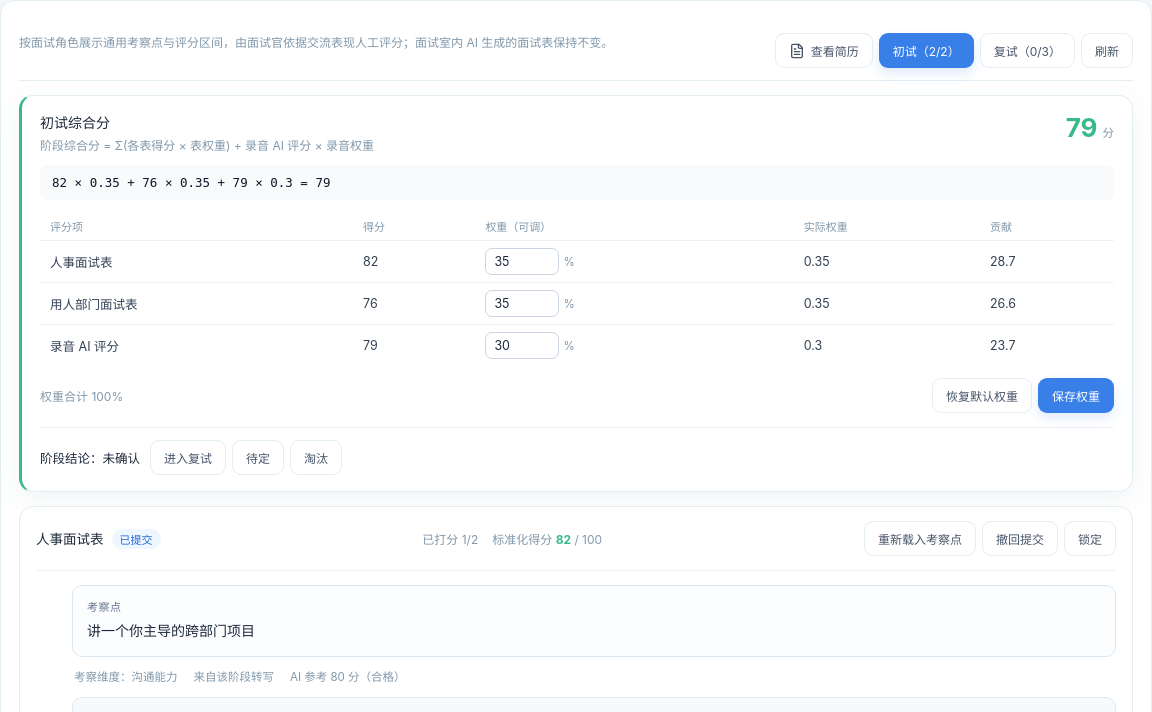
Test: QuestionSheetPanel › 权重合计不是 100% 时不允许保存
Replace the text in the number field named "人事面试表权重" with "60" at x=522, y=262, box [485, 248, 559, 275]
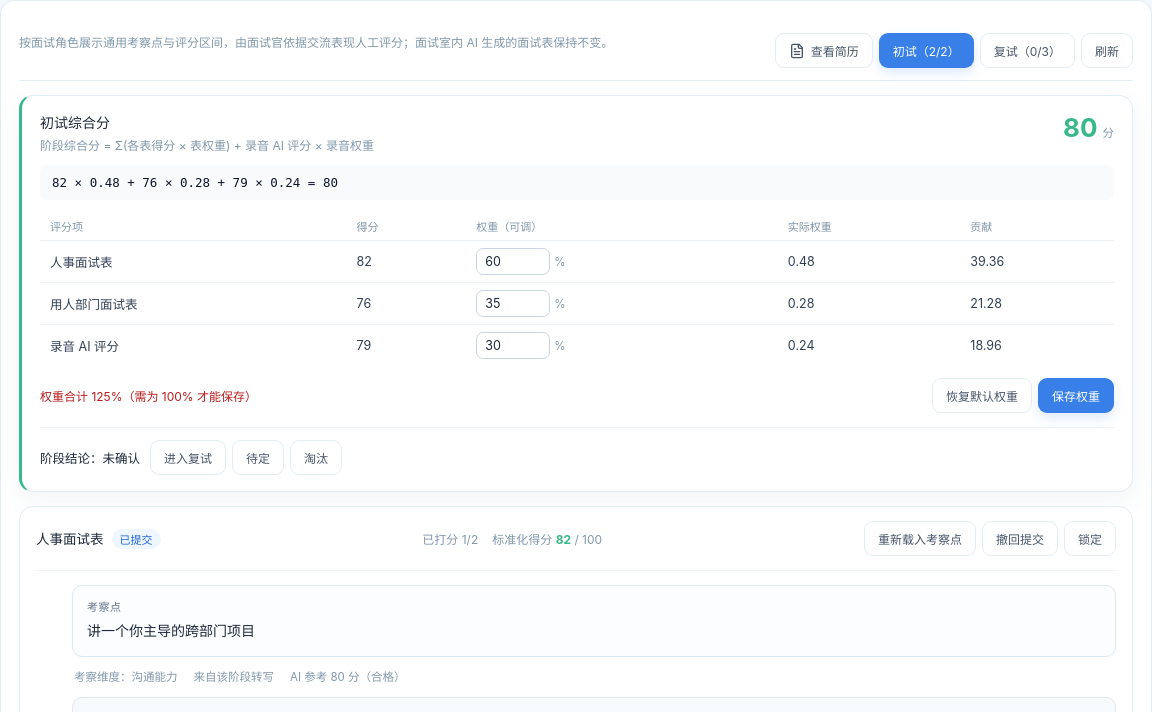
Check: the button "保存权重" is disabled, box [1038, 378, 1114, 413]
Check: the text "需为 100% 才能保存" is shown, box [40, 389, 257, 404]
